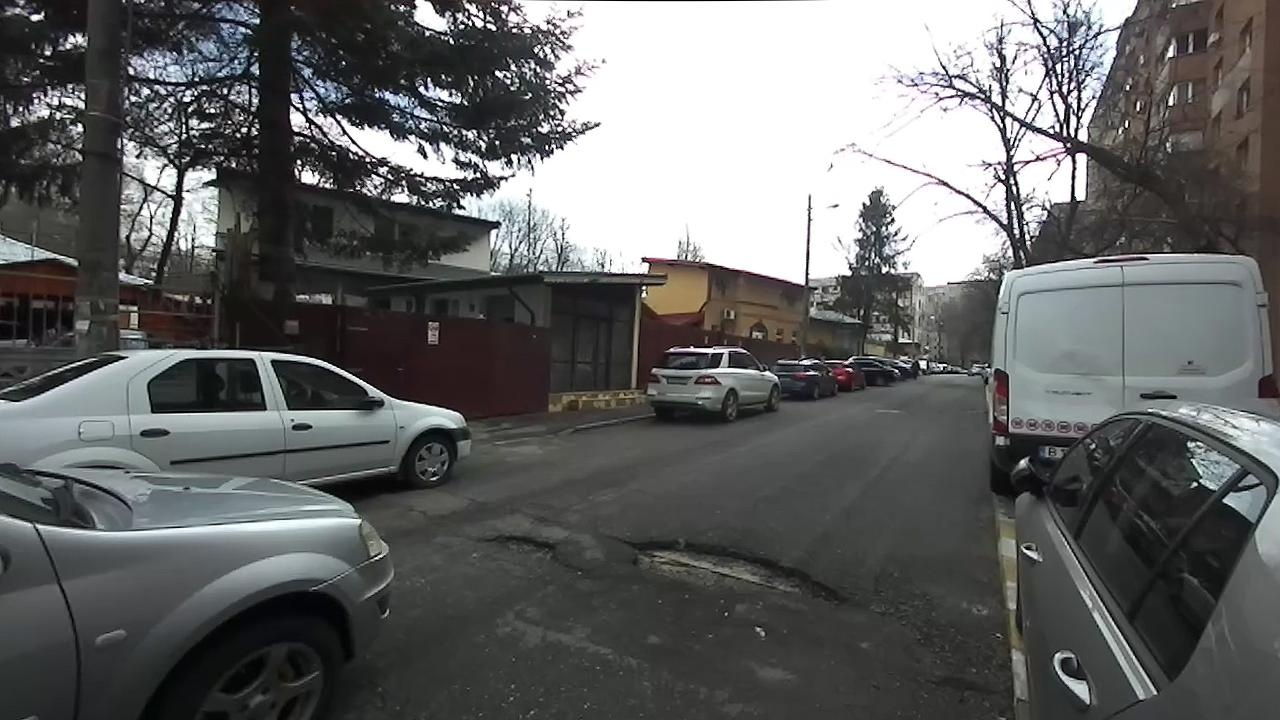pothole: (624, 536, 855, 615), (478, 528, 585, 575)
